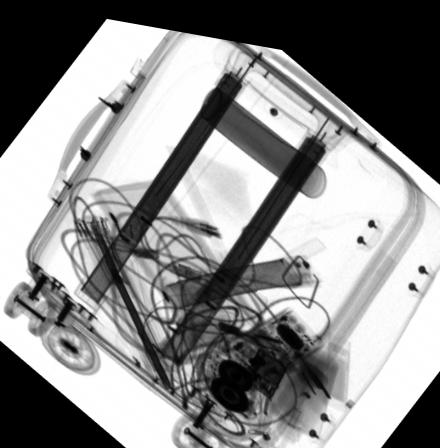Lighter: (241, 337, 285, 388)
